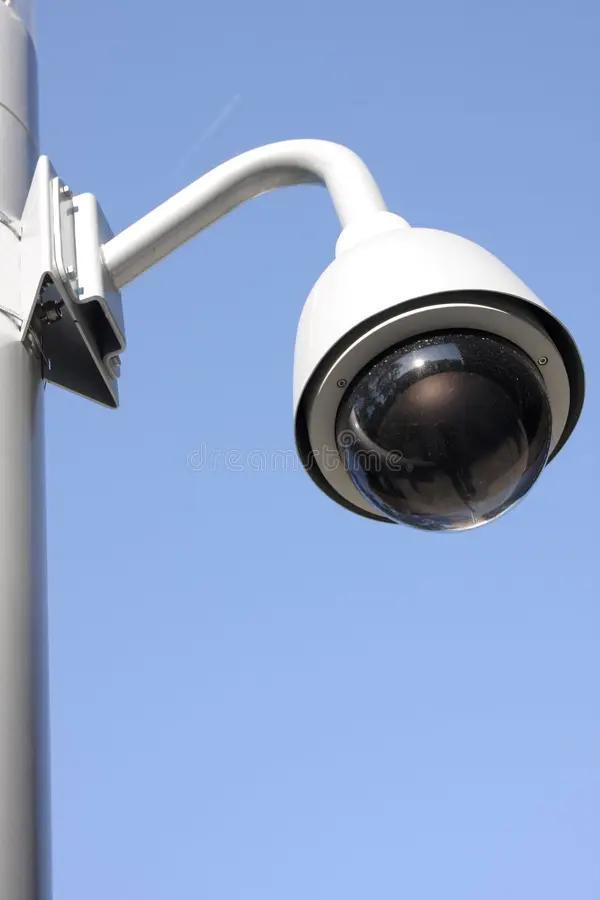360-Cam: (276, 216, 583, 551)
